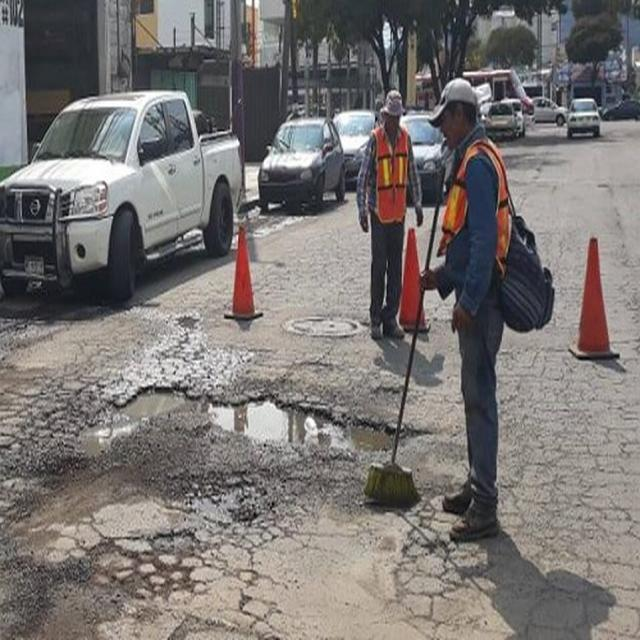Pothole: (60, 344, 455, 518)
